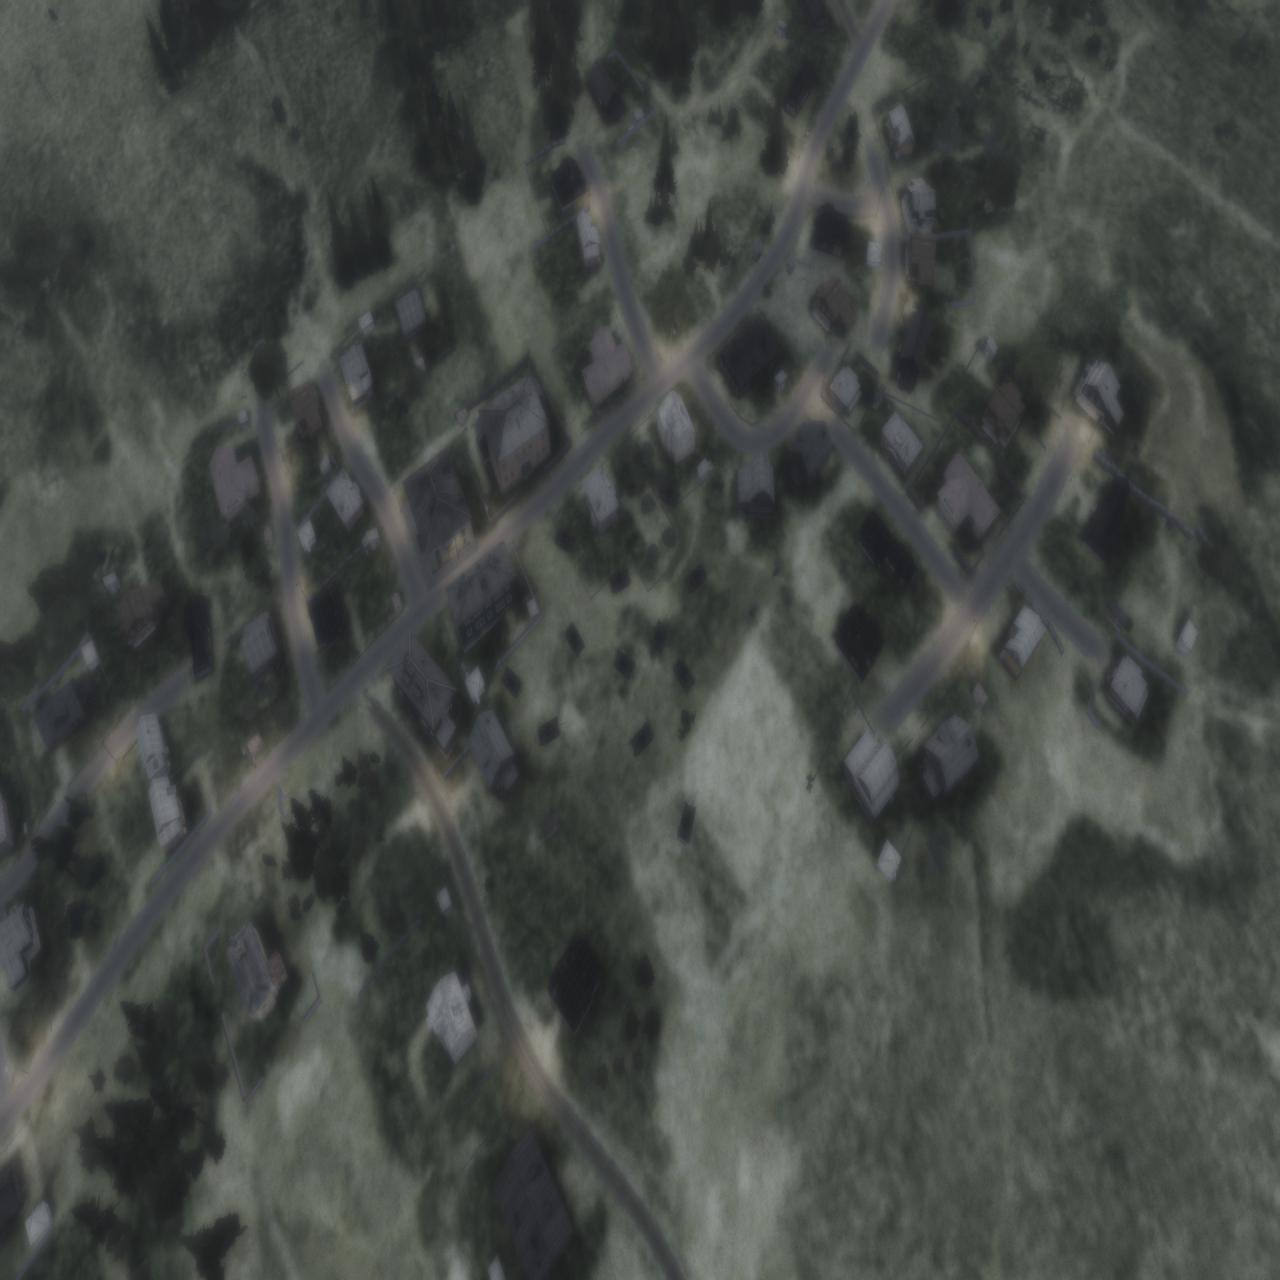MIL_Veh: (676, 790, 700, 845), (624, 720, 655, 758), (611, 645, 636, 681), (652, 608, 670, 658), (565, 620, 587, 661), (499, 665, 525, 700), (537, 715, 561, 751), (673, 655, 696, 693), (686, 561, 708, 595), (610, 567, 632, 593)
